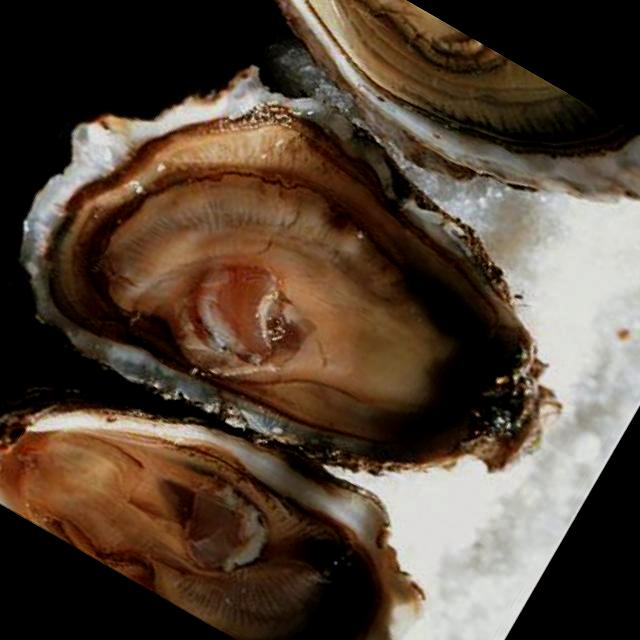Oyster-Open: (22, 65, 560, 471), (0, 386, 420, 639), (276, 0, 640, 204)
